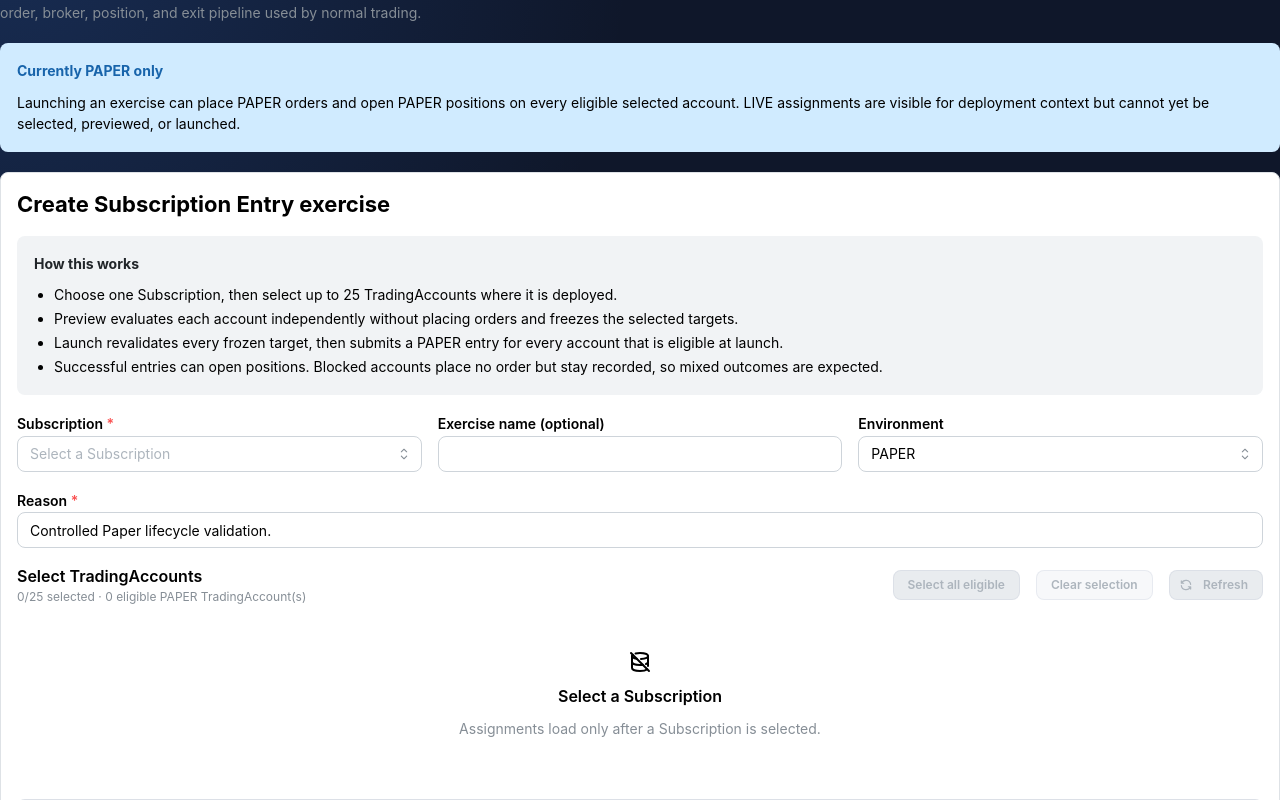
Test: Lifecycle Exercises creation › shows account position slots even when the market-session check blocks entry
The image size is (1280, 800).
Click the dropdown with placeholder "Select a Subscription" at coordinates (219, 454), box [17,436,422,472]
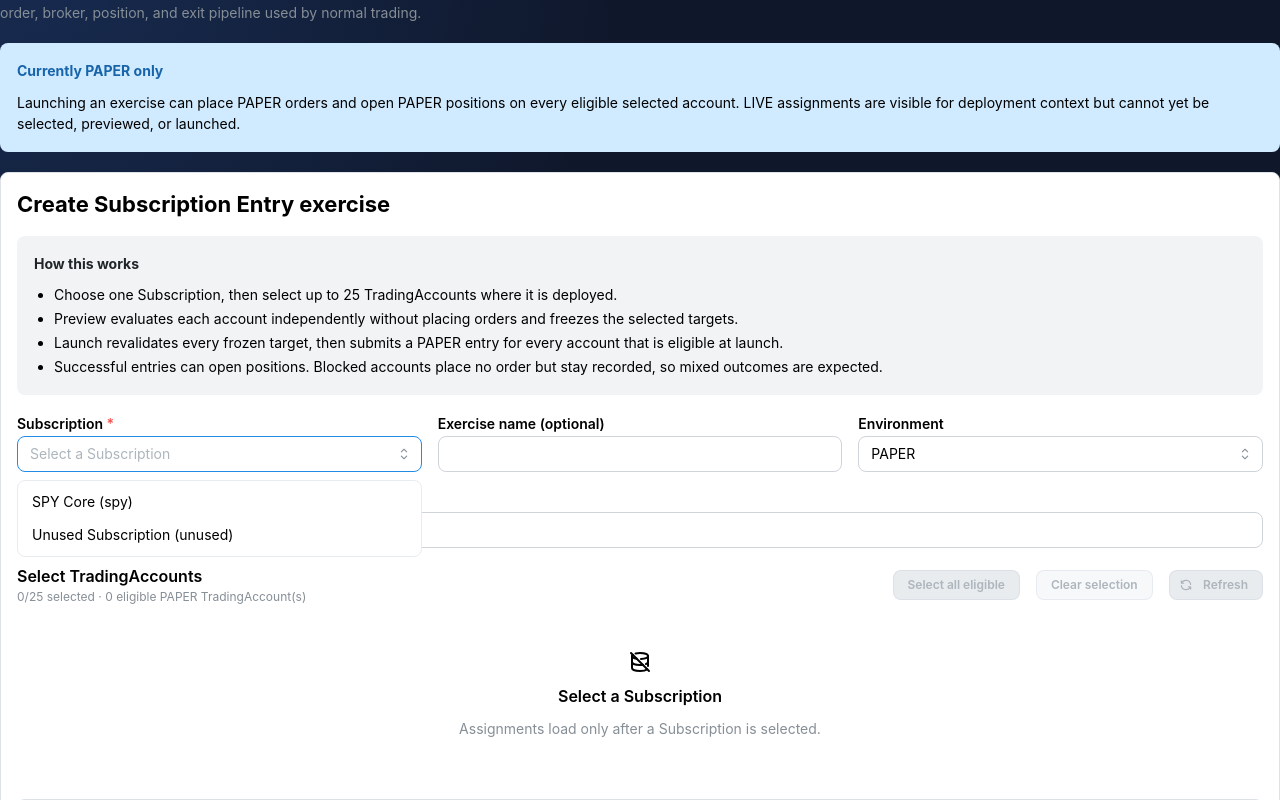
Click the option "SPY Core (spy)" at coordinates (82, 501), box [32,492,133,510]
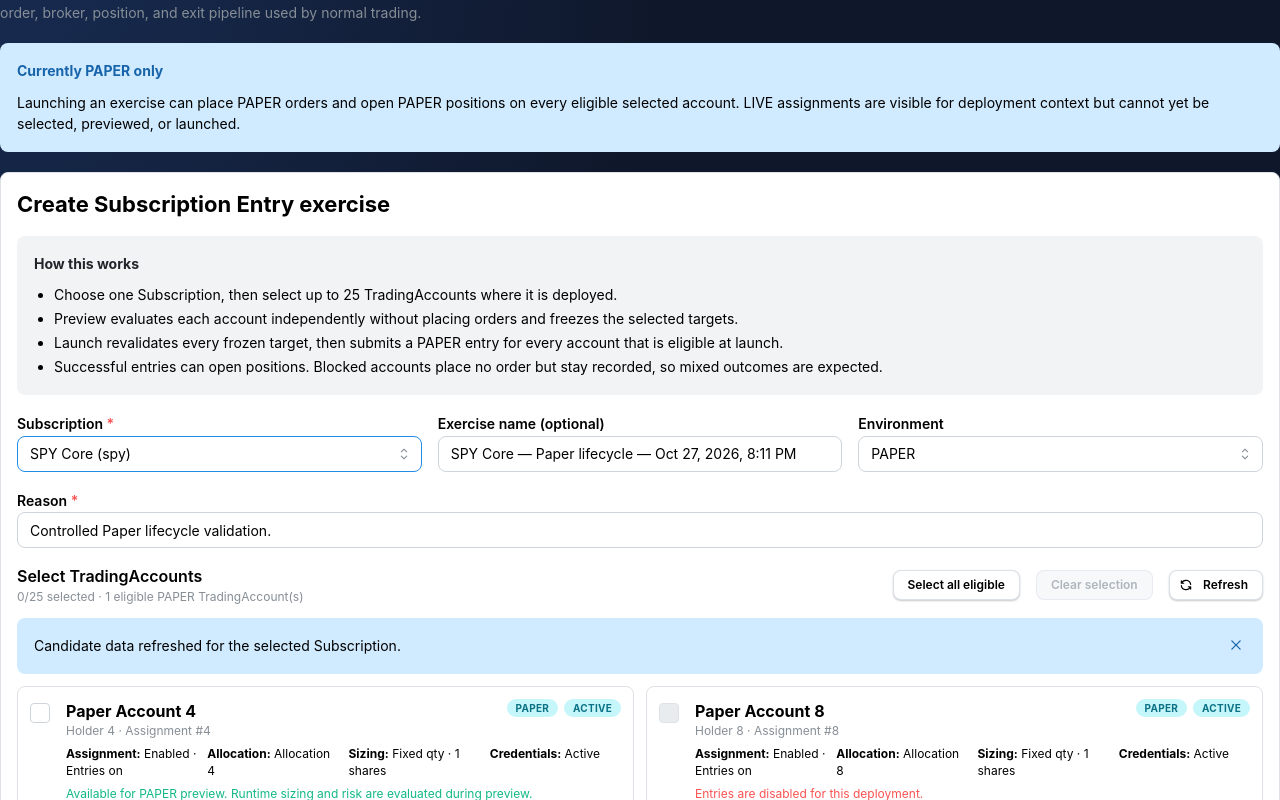
Click the checkbox named "Select Paper Account 4 assignment 4" at coordinates (40, 713), box [30,703,50,723]
(page scrolled)
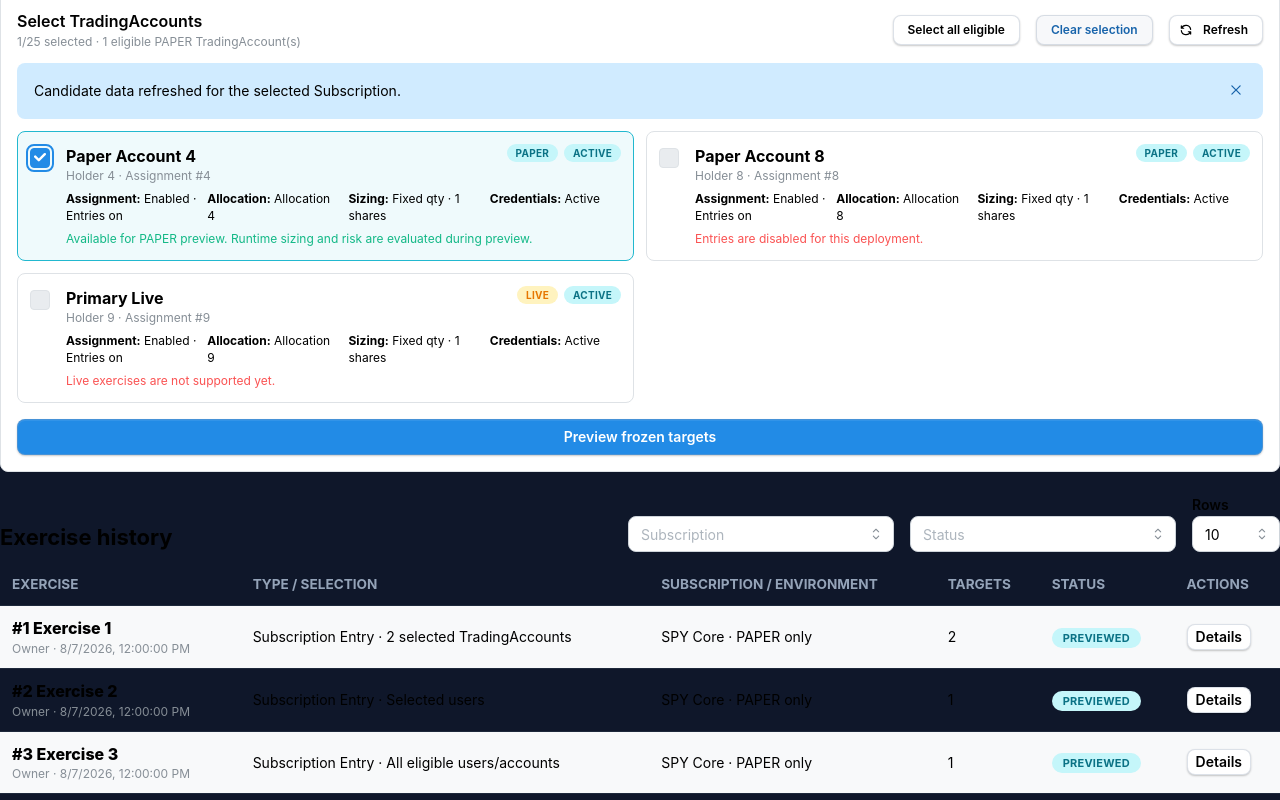
Click the button "Preview frozen targets" at coordinates (640, 437), box [17,419,1263,455]
(page scrolled)
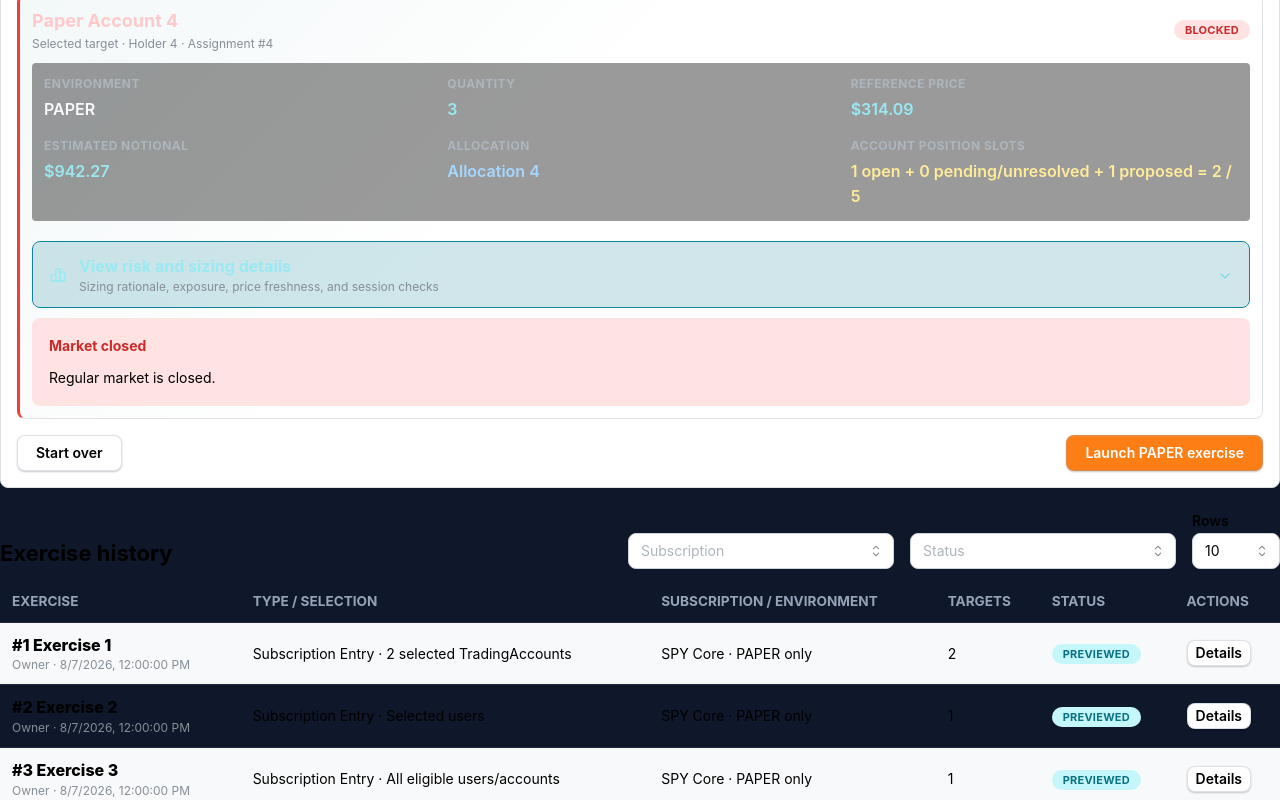
Now the text "Account position slots" is shown, box [851,138,1025,153]
Now the text "1 open + 0 pending/unresolved + 1 proposed = 2 / 5" is shown, box [851,159,1238,209]
Now the text "Regular market is closed." is shown, box [49,369,216,386]
